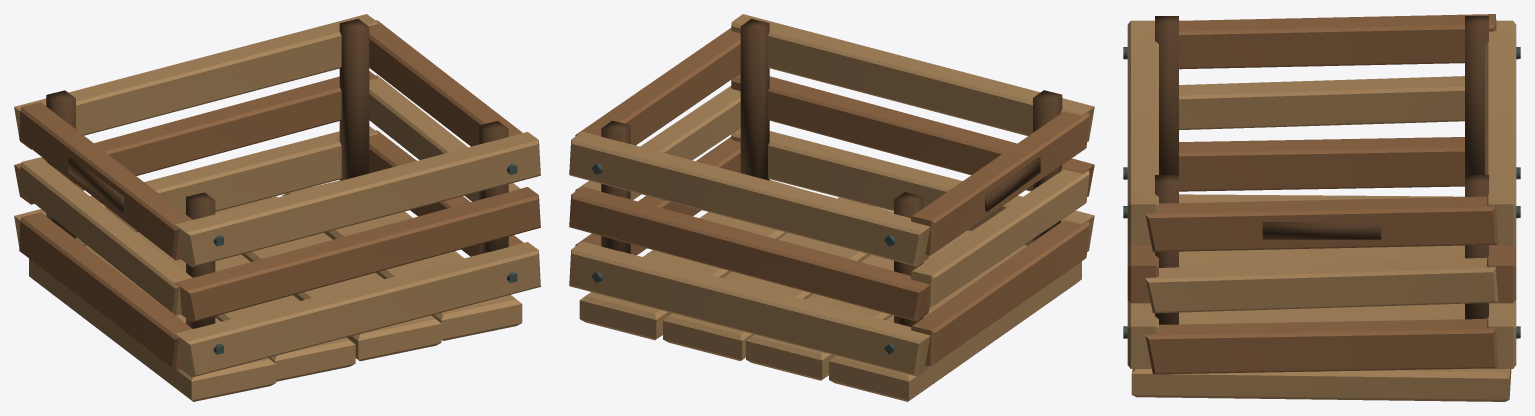
Rendered from cajon_lod.glb.
3 views of the same model, side by side, from view 1: azimuth 30°, elevation 25°; view 2: azimuth 150°, elevation 25°; view 3: azimuth 270°, elevation 25° (orthographic). The views are drawn at different scales.
Parts seen in each view (by area): view 1: cajon; view 2: cajon; view 3: cajon.
Part boxes in pixels (x1,y1,x2,y2): cajon: (14,14,540,401); cajon: (569,14,1094,401); cajon: (1123,14,1520,401).
Bounding box in the file's own units: 0.8461 × 0.4235 × 0.718.
